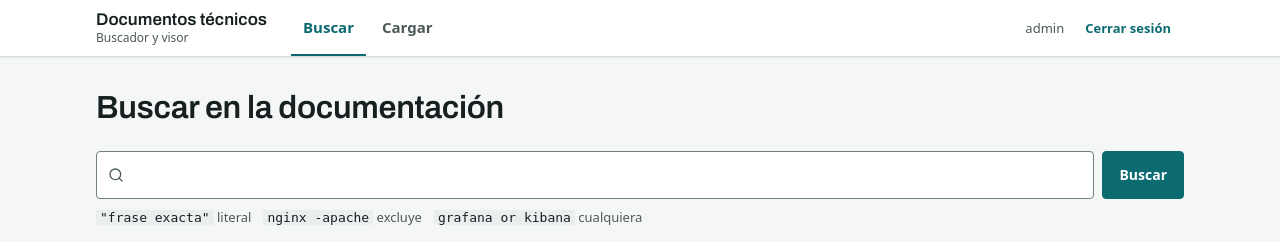
Test case: Sesión del administrador › cerrar sesión quita "Cargar" y la sesión guardada
Click the button "Cerrar sesión".
click(1128, 28)  # box [1072,12,1184,44]
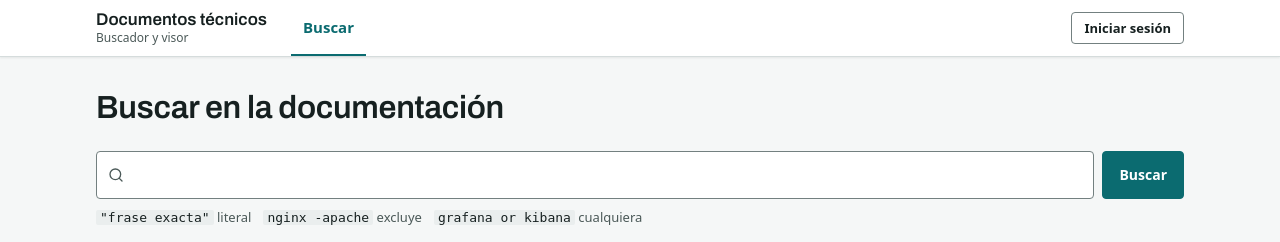
Result: the link "Cargar" is gone
